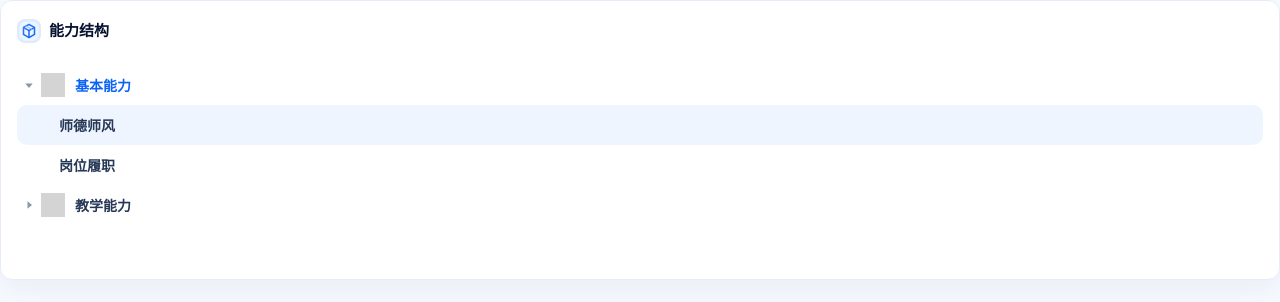
Test: AbilityStructureTree › selects the clicked parent group first child after another group was expanded
This screenshot has width=1280, height=302.
Click the element showing "教学能力": (77, 205) [23,193,131,217]
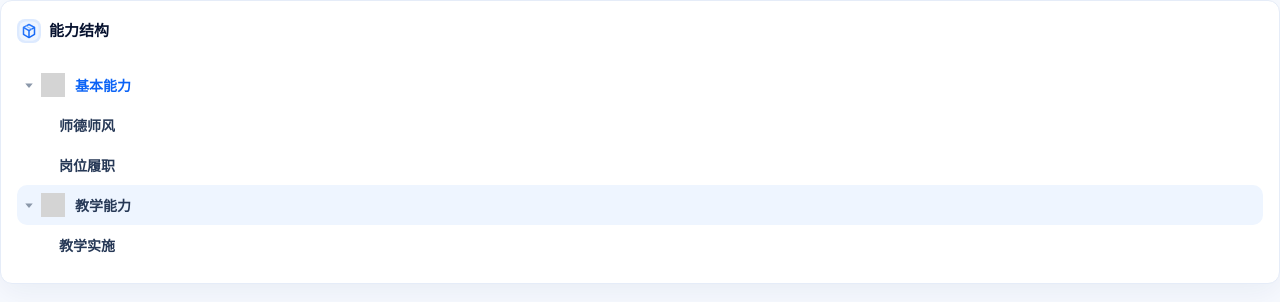
Now the text "教学实施" is shown, box [59,234,115,256]
